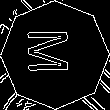M_E: (30, 32, 80, 78)
